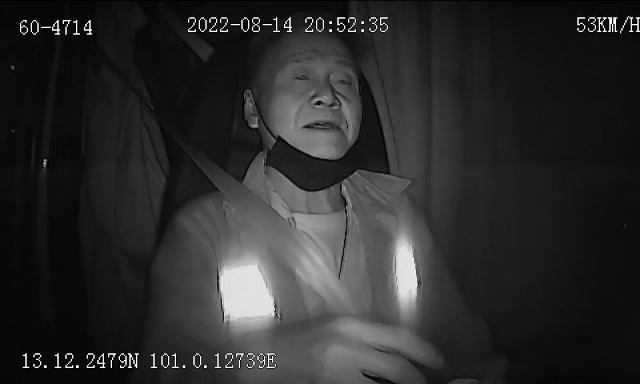SafeDriving: (286, 60, 317, 88), (328, 66, 358, 94)
Seatbelt: (188, 148, 370, 320)
